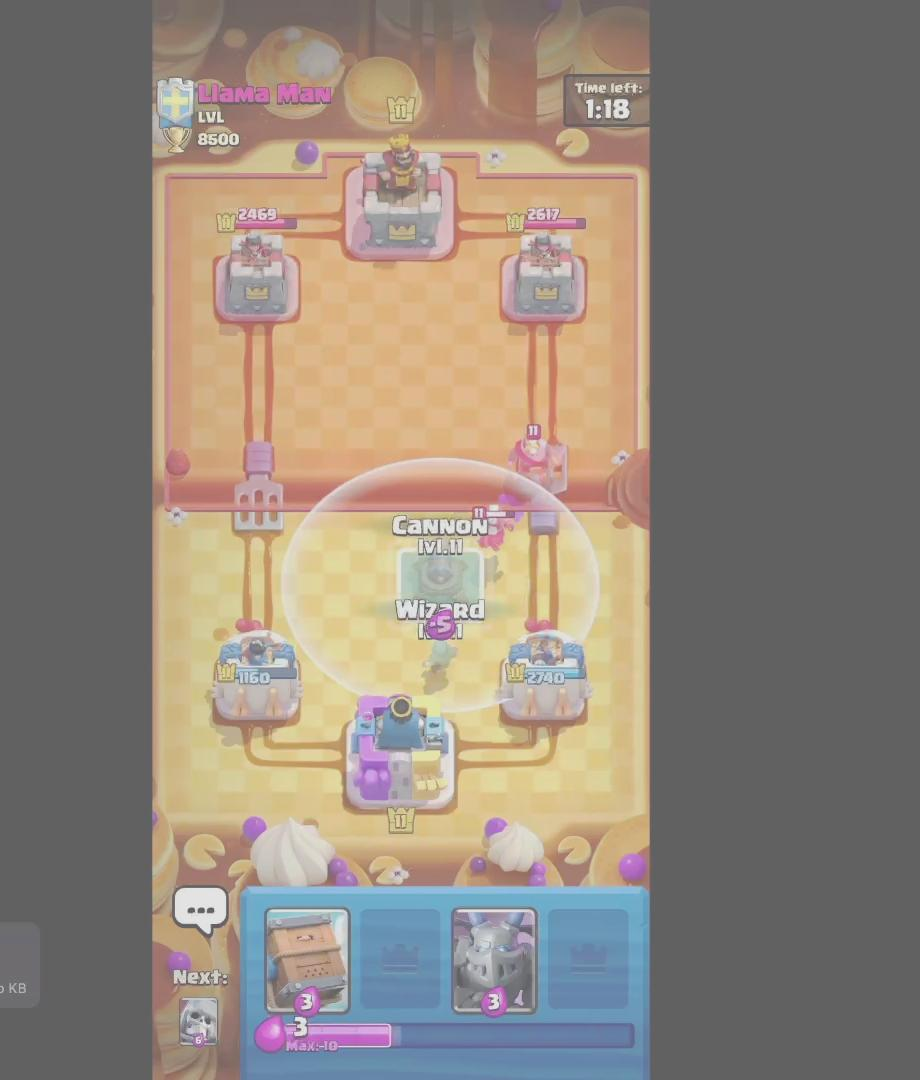Knight: (506, 427, 556, 490)
Mini Pekka: (470, 503, 517, 554)
